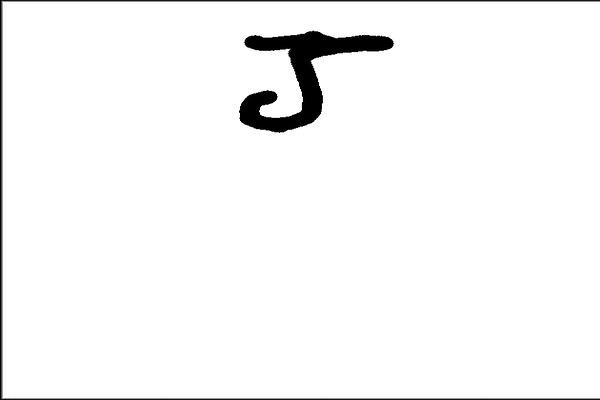J: (227, 26, 398, 135)
